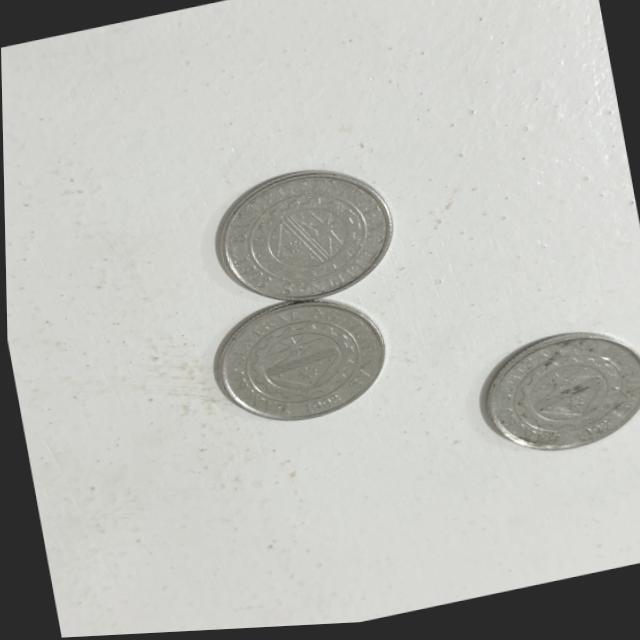1_Old_Back: (232, 310, 368, 420), (241, 187, 370, 296), (502, 349, 632, 450)
